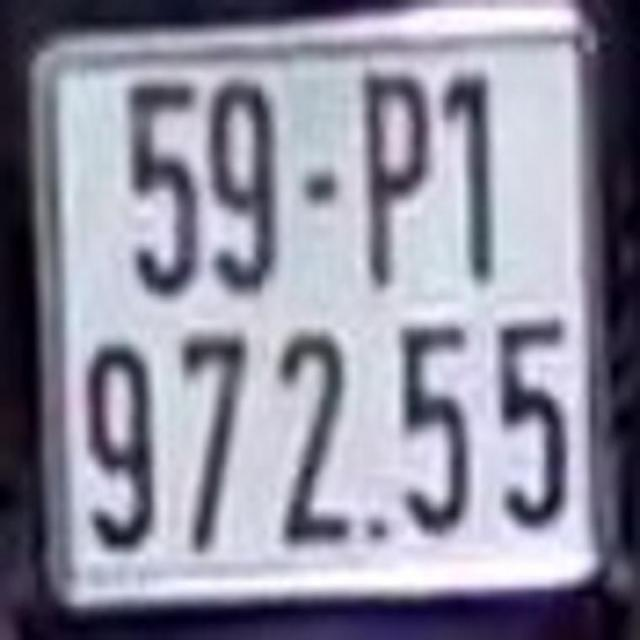1: (440, 69, 494, 278)
2: (278, 328, 350, 542)
5: (122, 79, 203, 292), (398, 322, 477, 537), (496, 322, 573, 529)
7: (180, 326, 250, 554)
9: (208, 74, 284, 297), (81, 339, 155, 544)
P: (360, 69, 436, 282)
